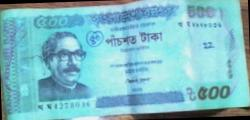500 taka: (1, 5, 250, 116)
